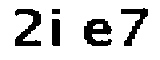2: (12, 6, 43, 51)
7: (119, 6, 152, 47)
e: (82, 17, 113, 50)
i: (48, 6, 67, 48)
